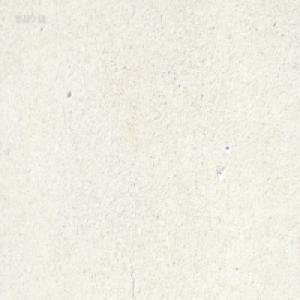Wrench: (111, 0, 117, 4)
